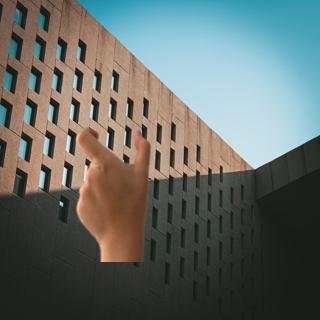Irritated: (72, 123, 156, 254)
